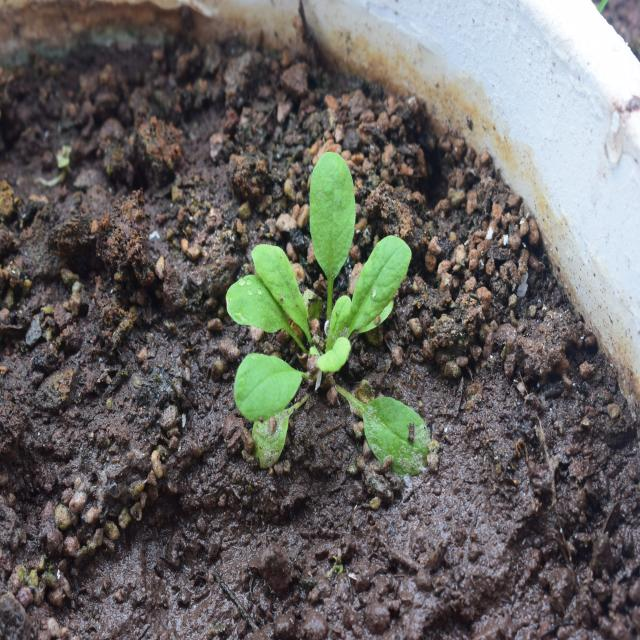Shepherd_Purse: (222, 163, 452, 477)
